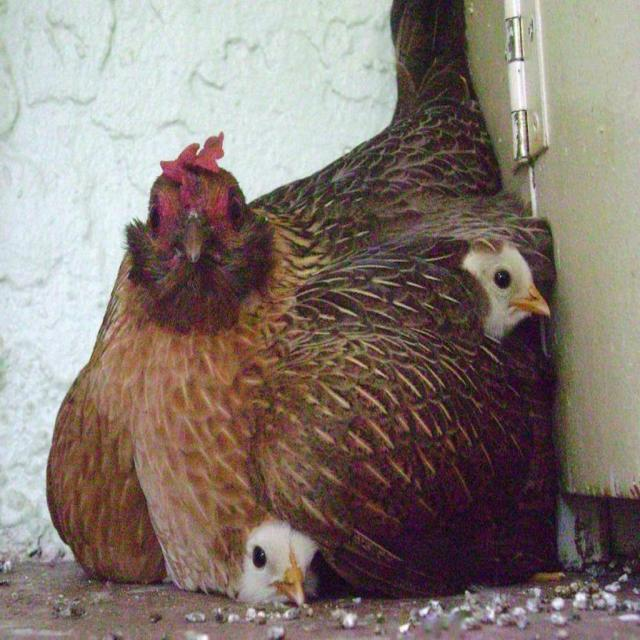Chicken: (40, 65, 562, 637)
